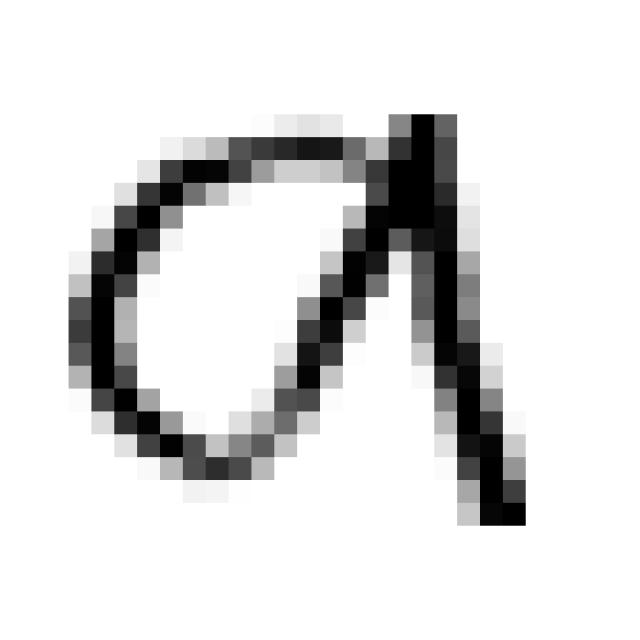9 -nine-: (46, 80, 550, 551)
